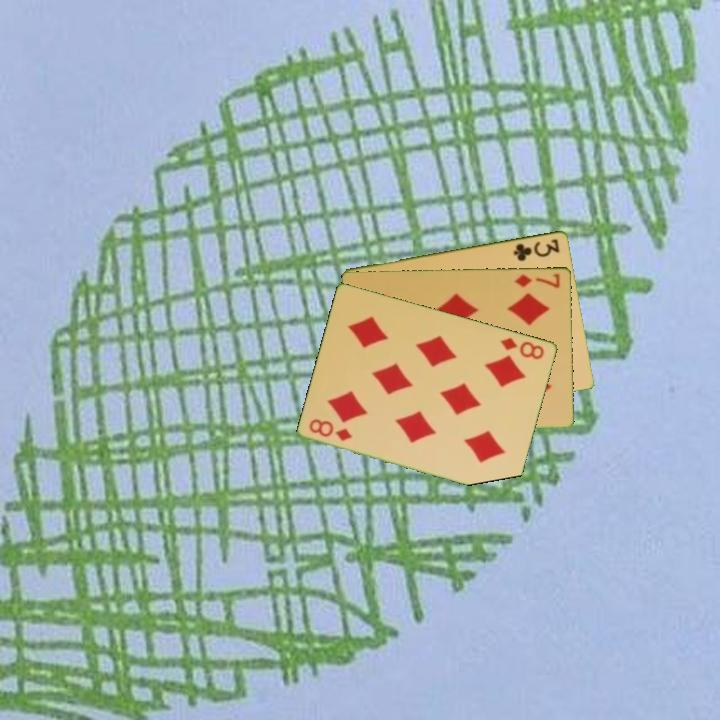3c: (510, 235, 563, 263)
7d: (511, 270, 563, 291)
8d: (497, 333, 547, 362), (306, 415, 355, 444)
